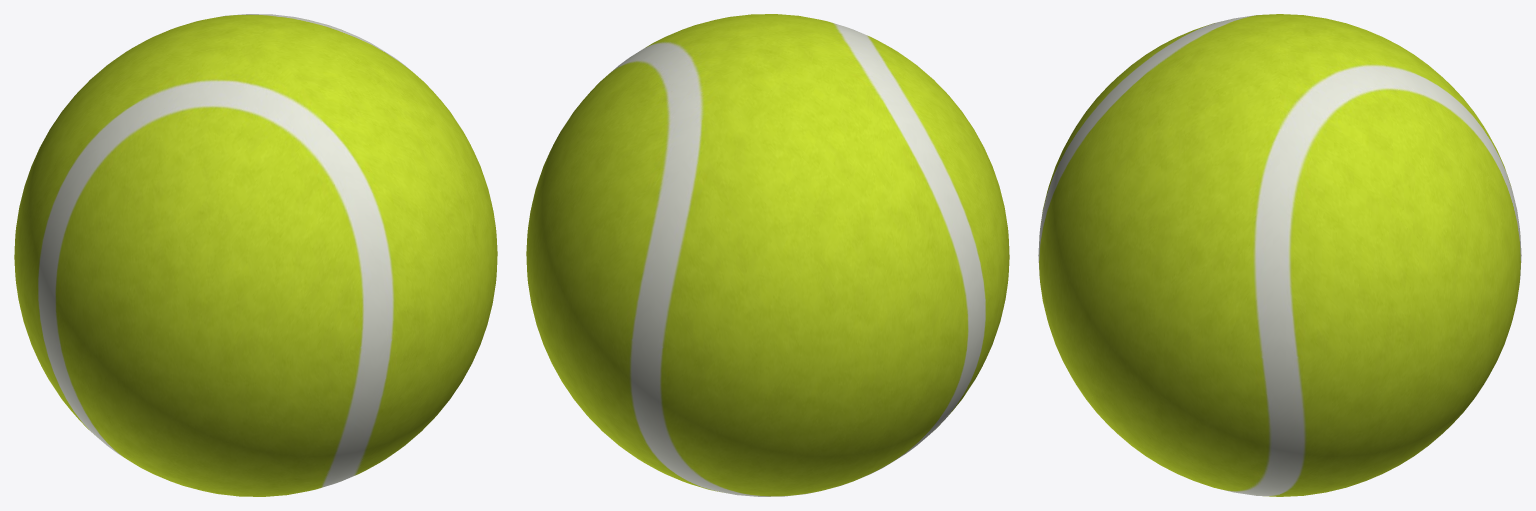
The model's file is ball.glb.
3 renders of one model, left to right at view 1: azimuth 30°, elevation 25°; view 2: azimuth 150°, elevation 25°; view 3: azimuth 270°, elevation 25°, orthographic.
Visible parts, largest first — view 1: ball; view 2: ball; view 3: ball.
Boxes of the visible parts, bbox=[...] form: ball: bbox=[14, 14, 497, 496]; ball: bbox=[526, 14, 1009, 496]; ball: bbox=[1038, 14, 1521, 496].
Bounding box in the file's own units: 0.067 × 0.067 × 0.067.
1 material, 1 textured.
